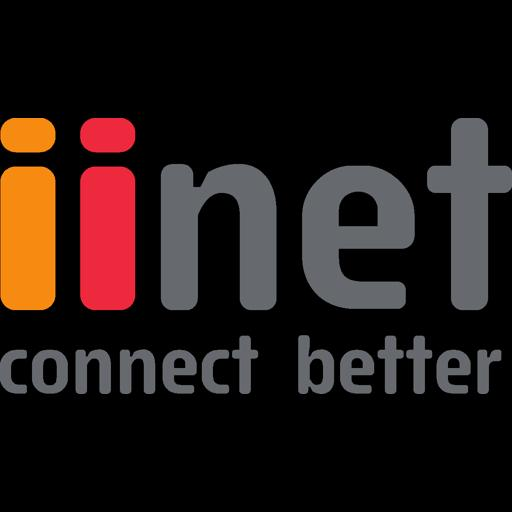iiNet Limited: (0, 118, 512, 394)
